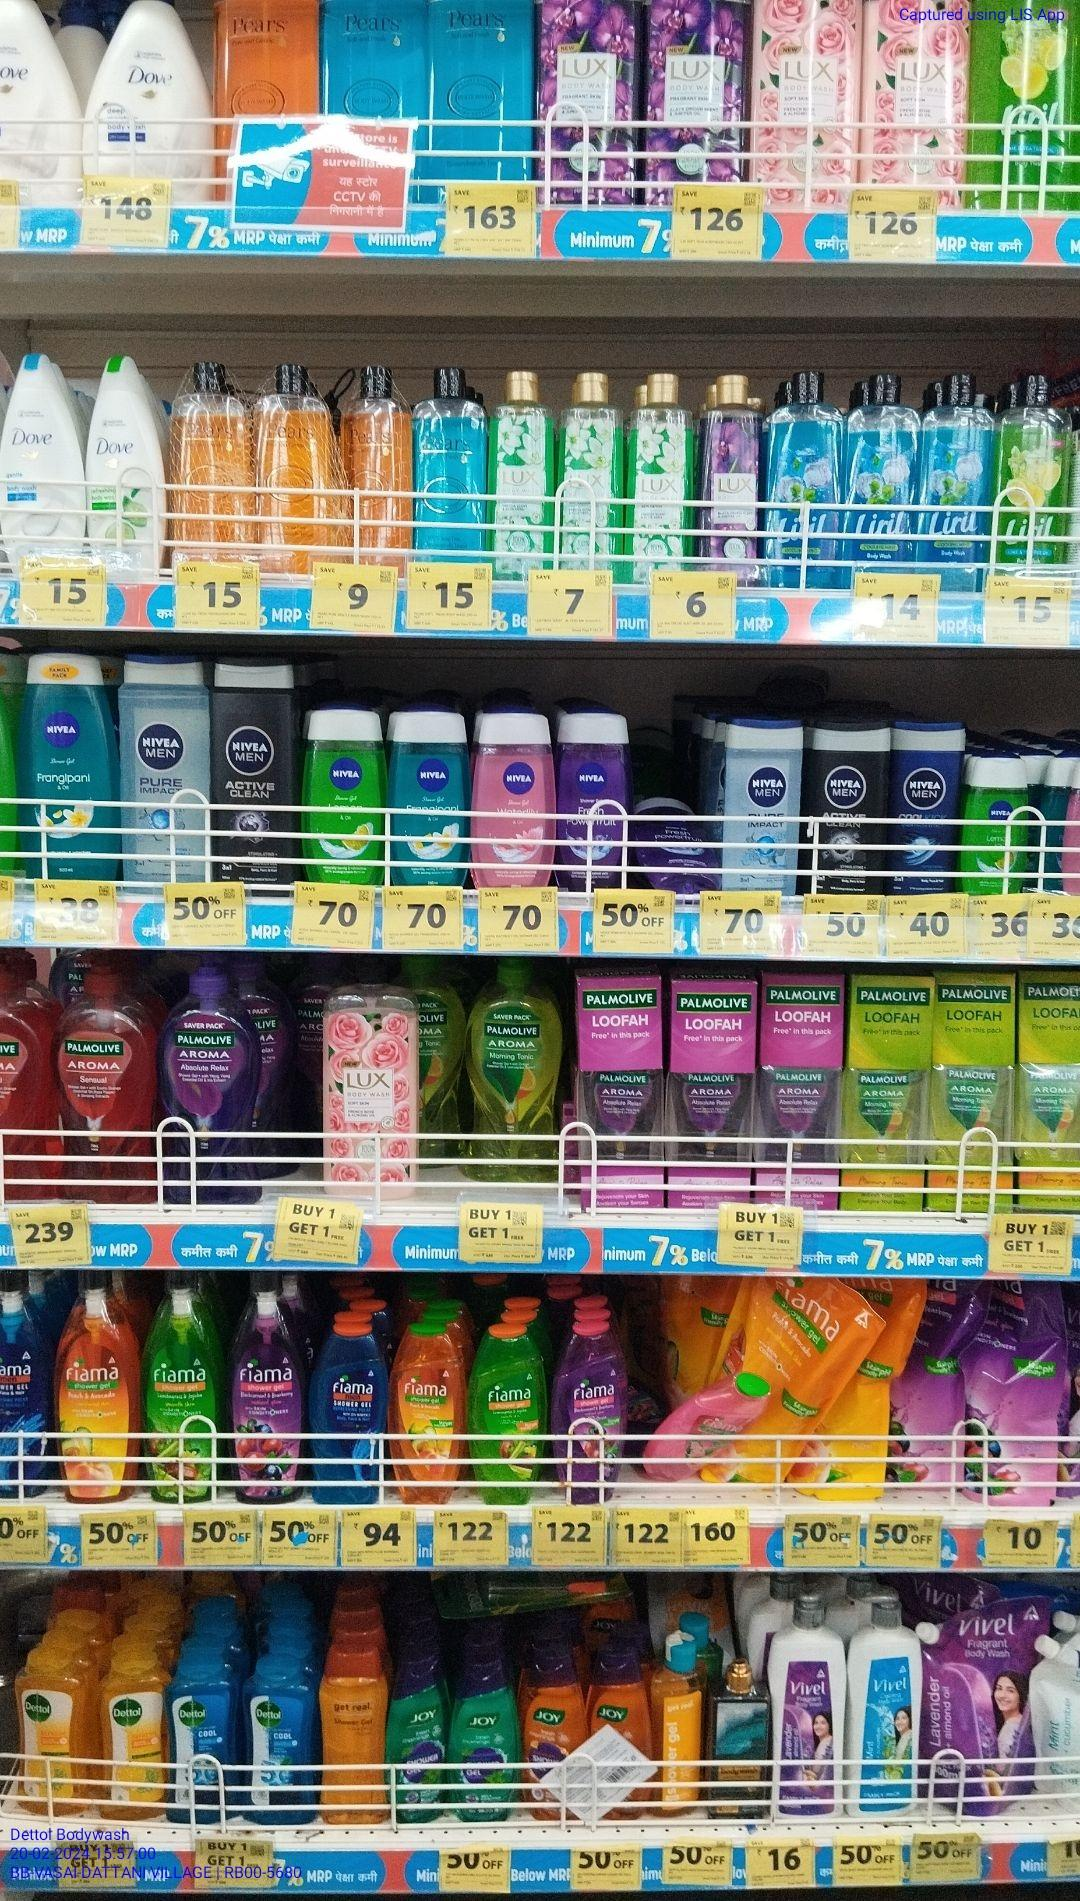Dettol_Bodywash_Cool: (246, 1653, 316, 1827), (172, 1646, 239, 1824)
Dettol_Bodywash_Refresh: (18, 1641, 86, 1814), (101, 1648, 168, 1819)
Dove_Deep_Moisture_Body_Wash_250ML: (0, 351, 86, 565)
Dove_Refreshing_Body_Wash_250ML: (90, 351, 168, 568)
Fiama_Shower_Gel_Lemongrass_and_Jojoba_250ML: (466, 1317, 550, 1507)
Fiama_Shower_Gel_Peach_and_Avocado_250ML: (388, 1317, 462, 1504)
Get_Real_Shower_Gel_Moisturising_Glycerin_300ML: (320, 1648, 389, 1823)
Joy_Shower_Gel_Mandarin_and_Lemongrass_250ML: (524, 1645, 581, 1764)
Joy_Shower_Gel_Mint_and_Eucalyptus_250ML: (453, 1657, 517, 1824), (392, 1663, 448, 1825)
Liril_Cooling_Mint_Body_Wash_250ML: (769, 371, 840, 589), (844, 373, 921, 572), (926, 372, 994, 572)
Liril_Lime_and_Tea_Tree_Oil_Body_Wash_250ML: (999, 371, 1070, 582)
Lux_Black_Orchid_Scent_and_Juniper_Oil_Body_Wash_245ML: (699, 366, 764, 572)
Lux_Body_Wash_Skin_Detox_Freesia_Scent_and_Alove_Vera_245ML: (556, 375, 624, 571), (629, 372, 693, 569), (488, 371, 551, 572)
Nivea_Shower_Gel_Frangipani_and_Oil_250ML: (20, 645, 118, 879), (393, 712, 471, 883)
Nivea_Shower_Gel_Fresh_Powerfruit_250ML: (564, 713, 629, 889)
Nivea_Shower_Gel_Lemon_and_Oil_250ML: (299, 710, 388, 880)
Nivea_Shower_Gel_Waterlily_and_Oil_250ML: (474, 706, 558, 884)
